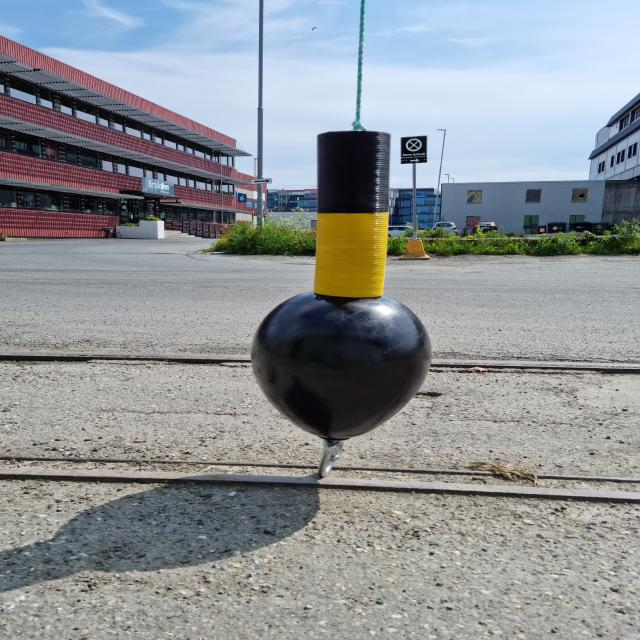east: (251, 131, 434, 441)
